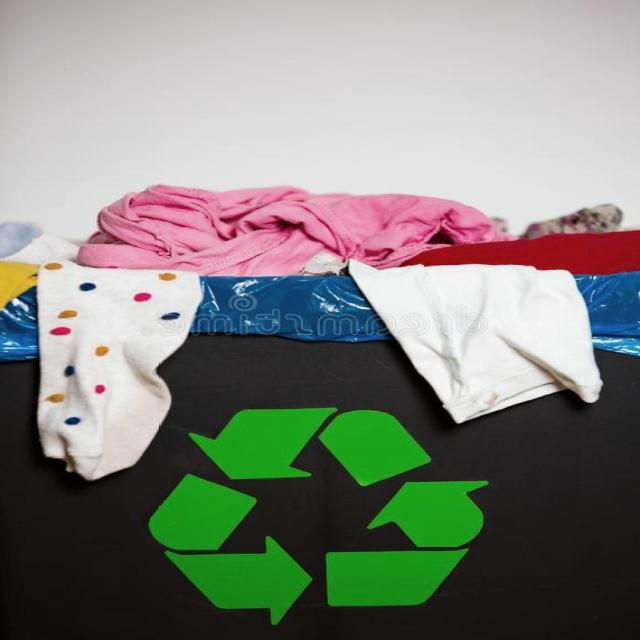clothes: (56, 193, 583, 270)
